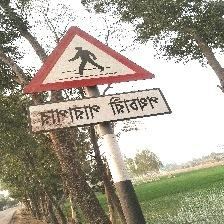Pedestrian-crossing: (22, 25, 167, 135)
